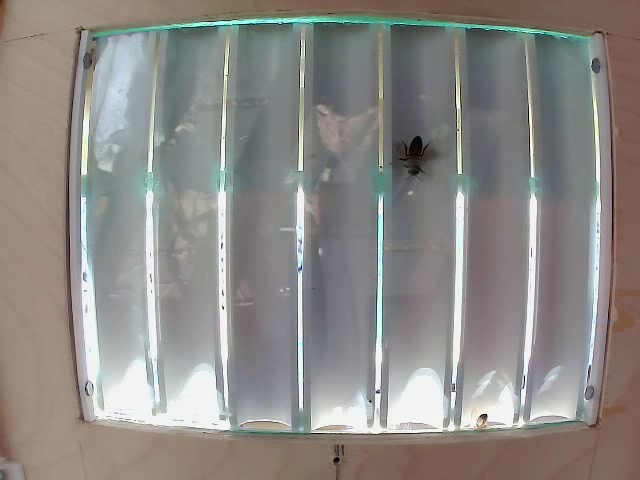bee: (397, 129, 432, 182)
